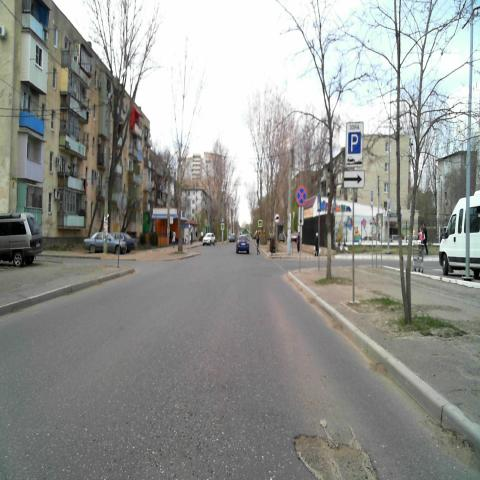8_2_3: (298, 205, 304, 225)
8_3_1: (344, 170, 364, 188)
